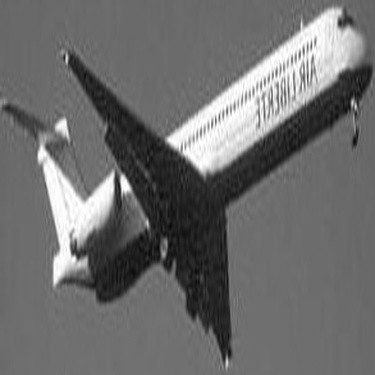airplane: (2, 7, 370, 369)
